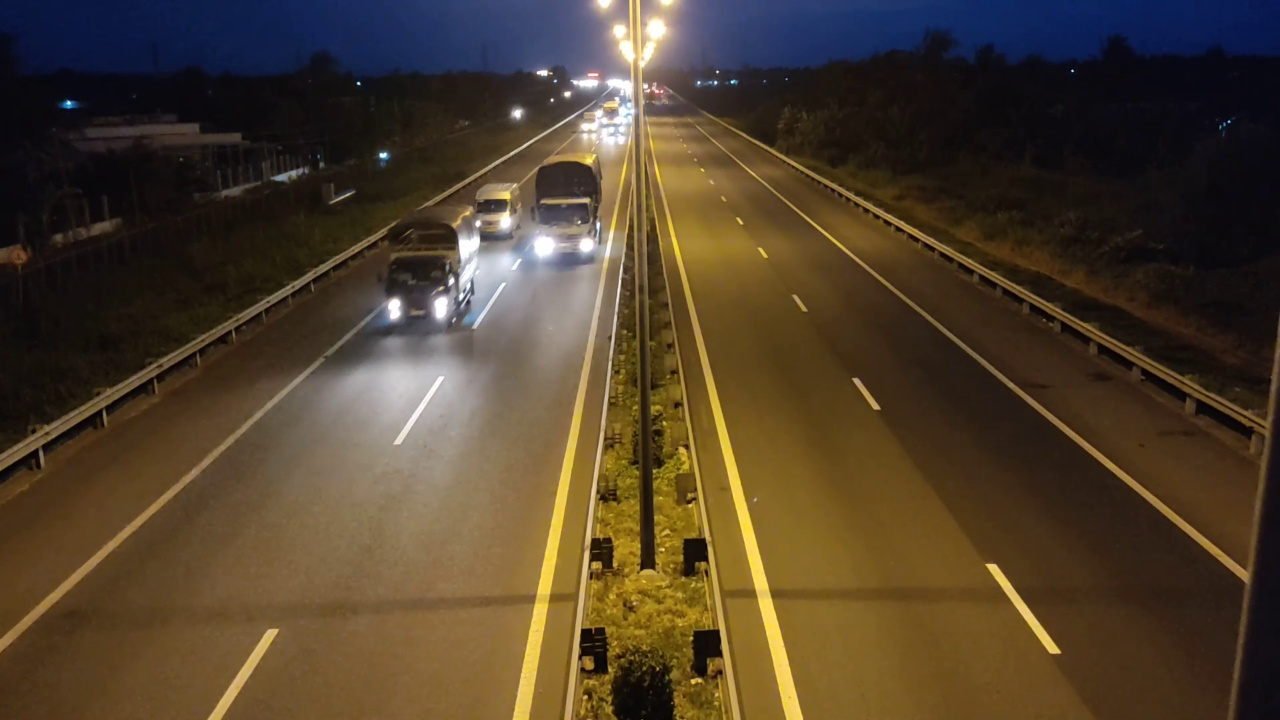truck: (376, 194, 478, 334), (525, 154, 605, 264)
